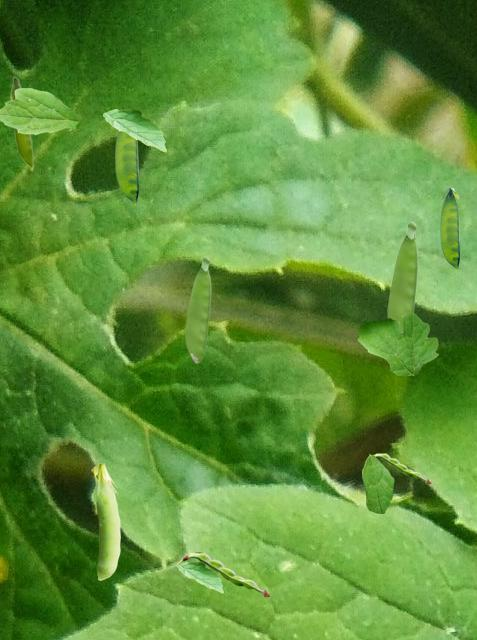pea: (176, 552, 269, 595), (91, 460, 119, 579), (387, 221, 417, 330), (185, 256, 210, 362), (10, 76, 33, 170), (373, 453, 430, 482), (115, 130, 137, 204), (440, 188, 458, 269)
